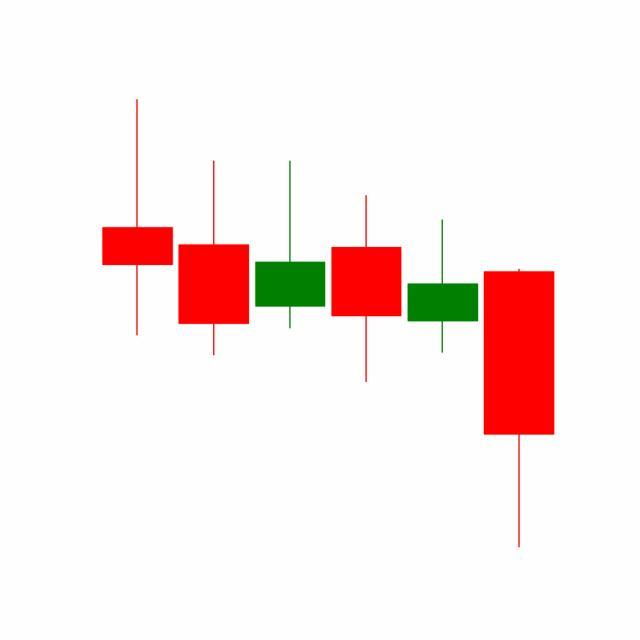Hikkake Pattern: (175, 156, 555, 548)
